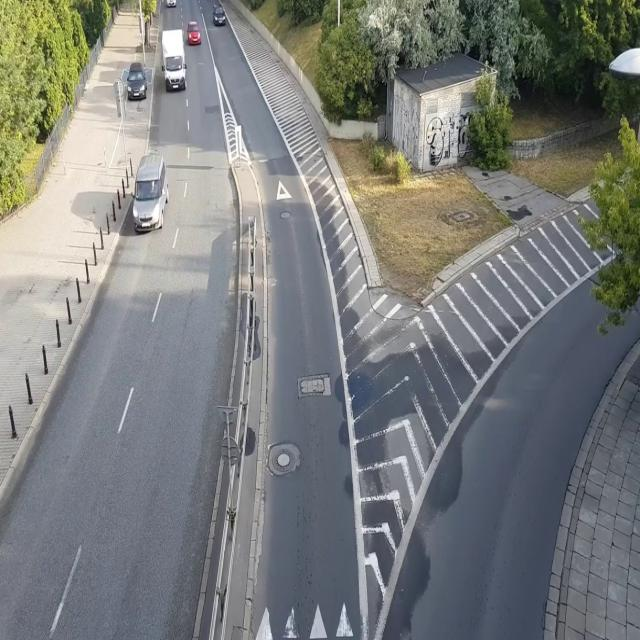car: (126, 61, 147, 100), (187, 20, 201, 48), (212, 2, 226, 28), (165, 0, 176, 8)
truck: (160, 28, 188, 94)
van: (132, 153, 170, 236)
